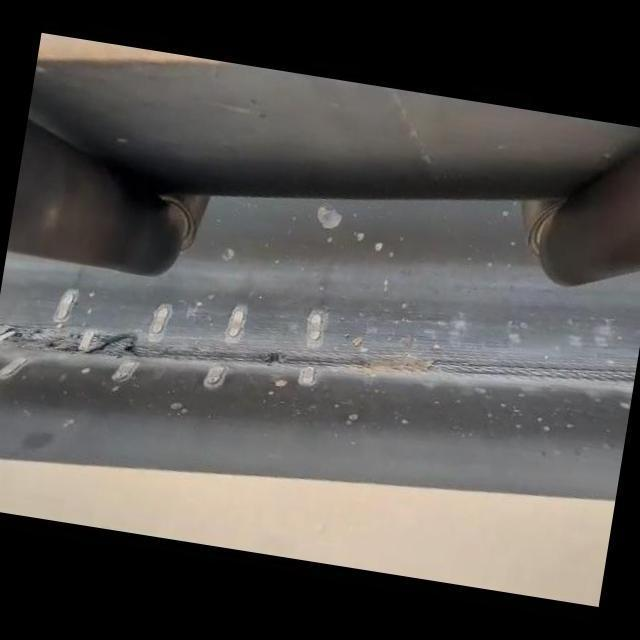Tear: (73, 330, 150, 358)
Wear: (0, 320, 638, 390)
